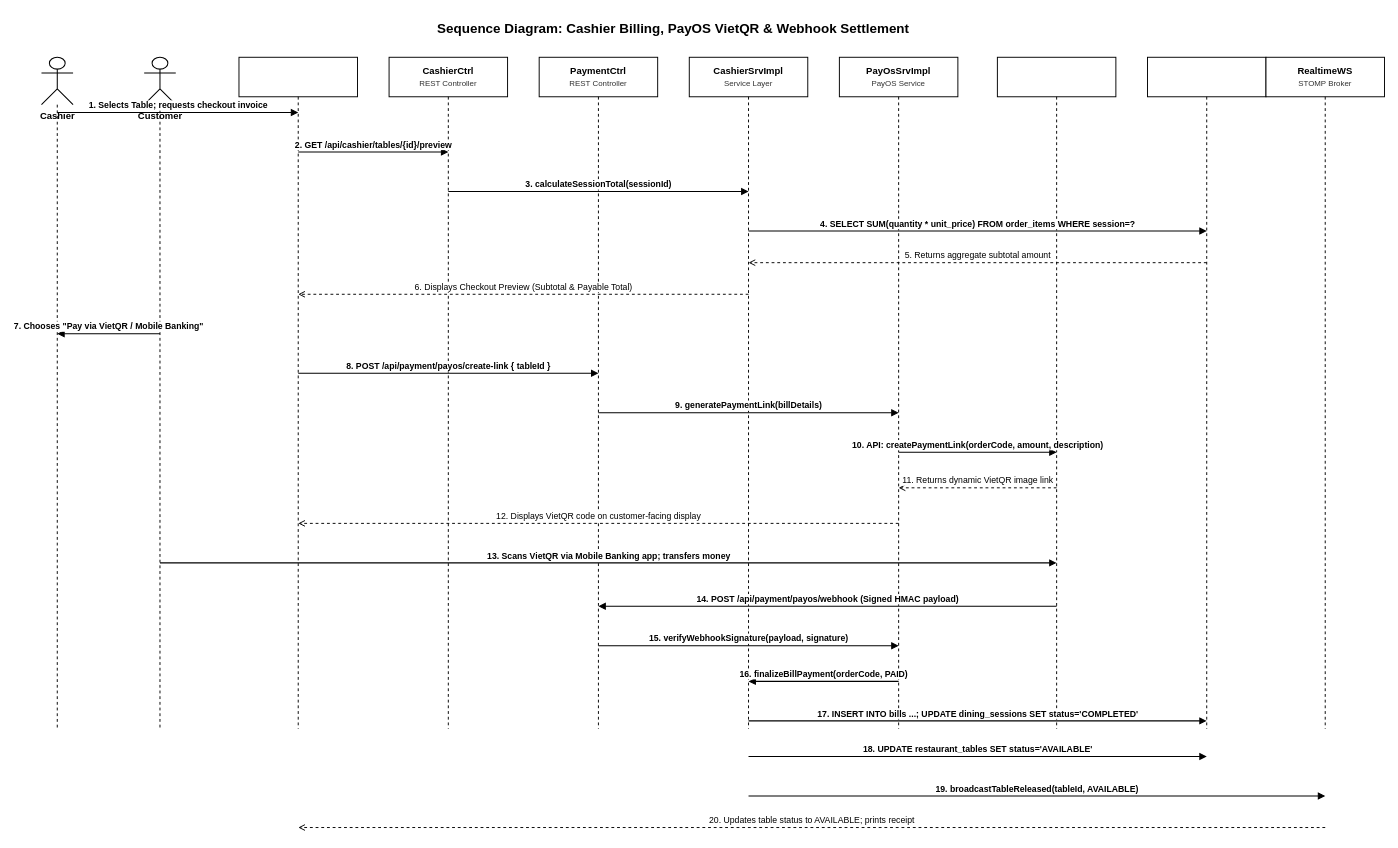
This 1398x848 diagram has some shape labels left out. Each missing label, with the box of its shape:
CashierPosPage POS Terminal: (238, 56, 358, 729)
Database MySQL 8.0: (1147, 56, 1266, 729)
PayOS Gateway External Cloud: (997, 56, 1116, 729)
